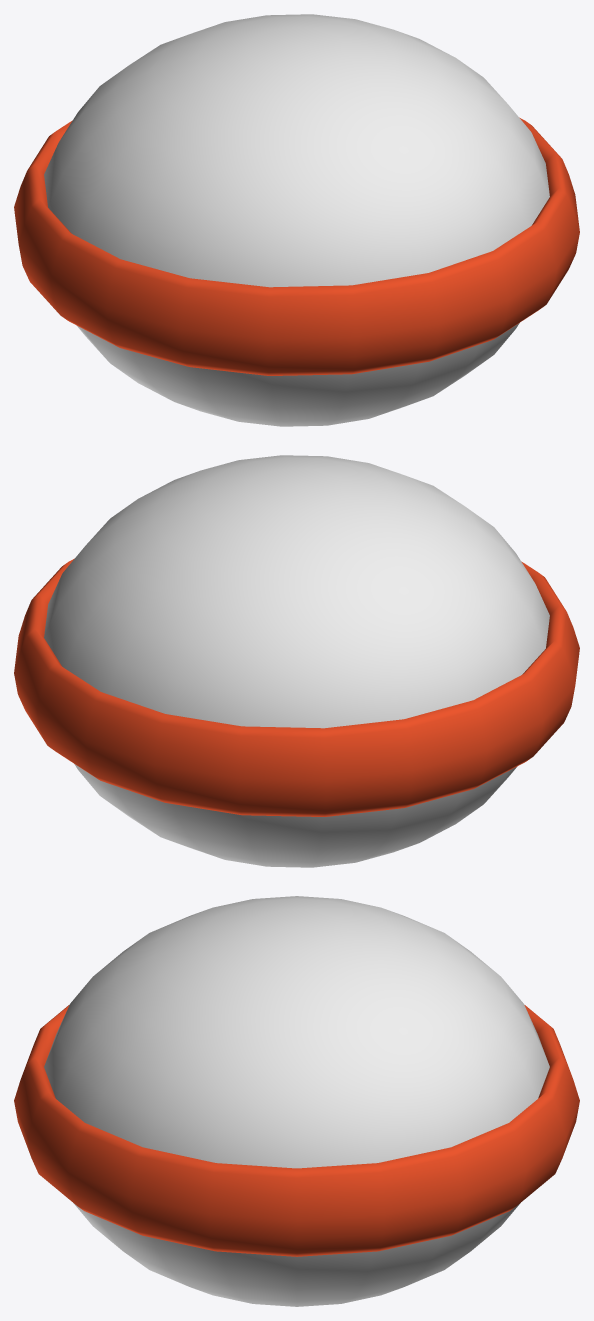
The model's file is pickups_speed 1.fbx.
The picture shows the model from 3 angles, top to bottom: view 1: azimuth 30°, elevation 25°; view 2: azimuth 150°, elevation 25°; view 3: azimuth 270°, elevation 25°; orthographic projection.
Parts seen in each view (by area): view 1: GlassSpeere.003, Outertorus.007; view 2: GlassSpeere.003, Outertorus.007; view 3: GlassSpeere.003, Outertorus.007.
Part boxes in pixels (bbox=[...]): GlassSpeere.003: bbox=[44, 14, 549, 426]; Outertorus.007: bbox=[14, 117, 579, 375]; GlassSpeere.003: bbox=[44, 455, 549, 867]; Outertorus.007: bbox=[14, 558, 579, 816]; GlassSpeere.003: bbox=[44, 896, 549, 1306]; Outertorus.007: bbox=[14, 1005, 579, 1256].
Bounding box in the file's own units: 260 × 176 × 260.
